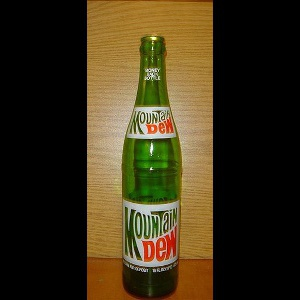emptybottle: (123, 35, 184, 300)
